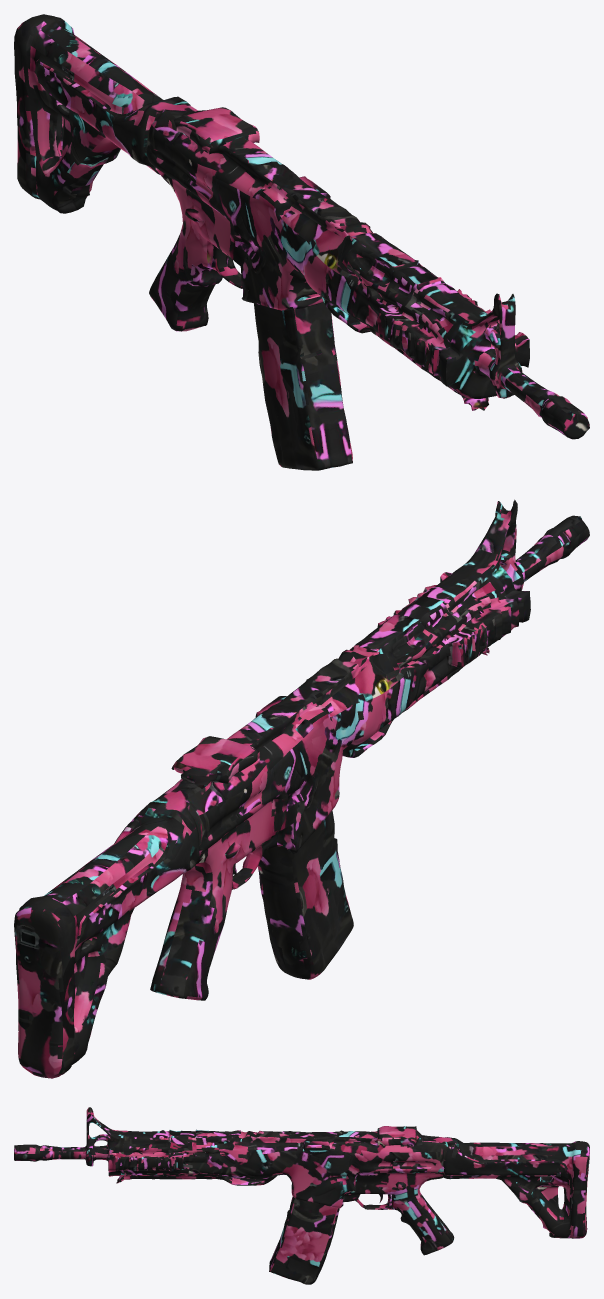
Rendered from RefModel.fbx.
3 renders of one model, top to bottom at view 1: azimuth 30°, elevation 25°; view 2: azimuth 150°, elevation 25°; view 3: azimuth 270°, elevation 25°, orthographic. The views are drawn at different scales.
Visible parts, largest first — view 1: tripo_node_d6089925, tripo_node_d6089925.001; view 2: tripo_node_d6089925, tripo_node_d6089925.001; view 3: tripo_node_d6089925, tripo_node_d6089925.001.
Part boxes in pixels (x1,y1,x2,y2): tripo_node_d6089925: [14, 14, 589, 439]; tripo_node_d6089925.001: [254, 293, 352, 470]; tripo_node_d6089925: [14, 499, 589, 1078]; tripo_node_d6089925.001: [258, 810, 353, 979]; tripo_node_d6089925: [14, 1107, 589, 1255]; tripo_node_d6089925.001: [269, 1196, 339, 1284].
Size of the model in its own units: 9.13 by 33.01 by 99.97.
